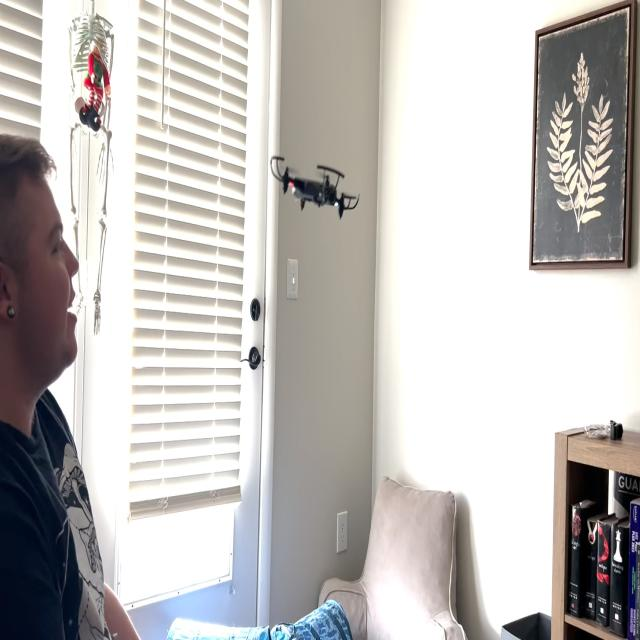drone: (258, 134, 366, 232)
